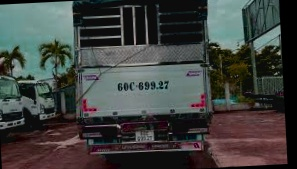Bien-so: (145, 130, 165, 142)
